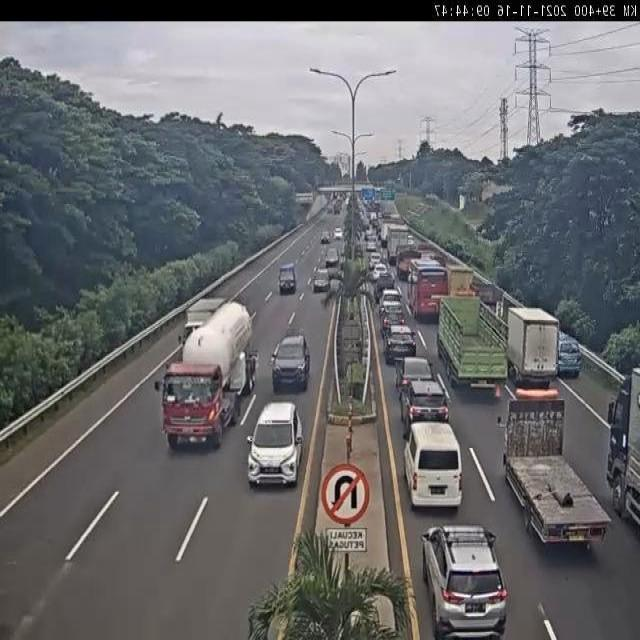Bus: (406, 256, 449, 324)
Car: (421, 524, 509, 639), (246, 401, 305, 488), (399, 378, 449, 436), (270, 332, 310, 393), (394, 354, 436, 393), (383, 324, 418, 366), (555, 328, 583, 378), (380, 299, 404, 332), (378, 287, 402, 317), (375, 272, 395, 295), (313, 267, 330, 292), (373, 262, 388, 280), (325, 248, 339, 267), (369, 251, 382, 267), (364, 229, 374, 243), (366, 240, 376, 253), (334, 227, 343, 240), (321, 232, 330, 244), (407, 235, 415, 245)
Truck: (495, 387, 612, 552), (152, 297, 259, 456), (438, 295, 508, 399), (606, 363, 640, 532), (506, 305, 560, 392), (179, 296, 233, 351), (469, 280, 505, 320), (443, 262, 473, 298), (386, 228, 412, 263), (395, 248, 423, 280), (278, 262, 298, 294), (378, 222, 394, 248)
Van: (403, 416, 464, 510)
